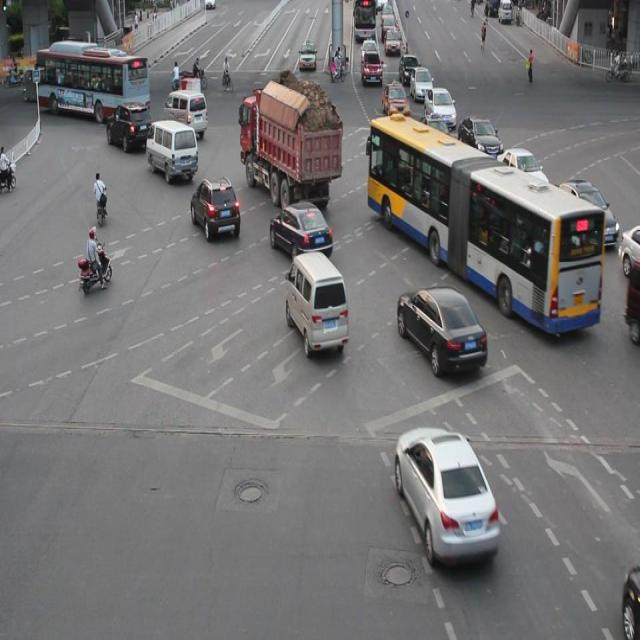bus: (239, 89, 341, 207)
car: (393, 424, 498, 566), (397, 286, 487, 373), (553, 180, 615, 245), (535, 220, 591, 290), (268, 200, 332, 261), (189, 177, 240, 239), (480, 181, 533, 240), (492, 146, 546, 197), (106, 99, 153, 153), (457, 116, 502, 160), (414, 116, 454, 158)
truck: (284, 249, 348, 351), (145, 118, 199, 182), (164, 87, 207, 135)
van: (365, 114, 602, 335)
